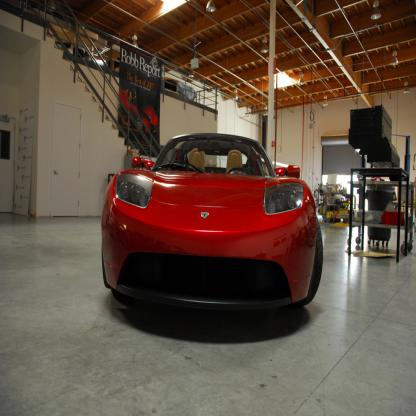Car: (101, 132, 323, 311)
